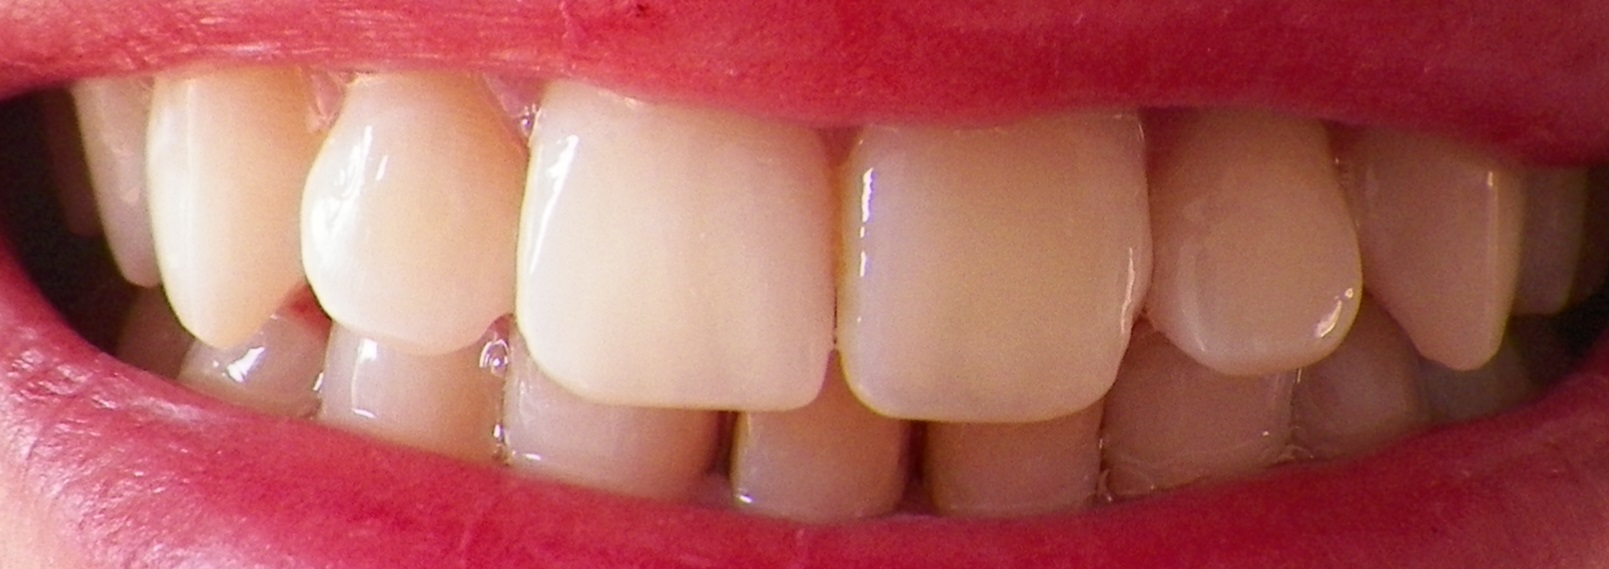boca: (62, 75, 1568, 504)
